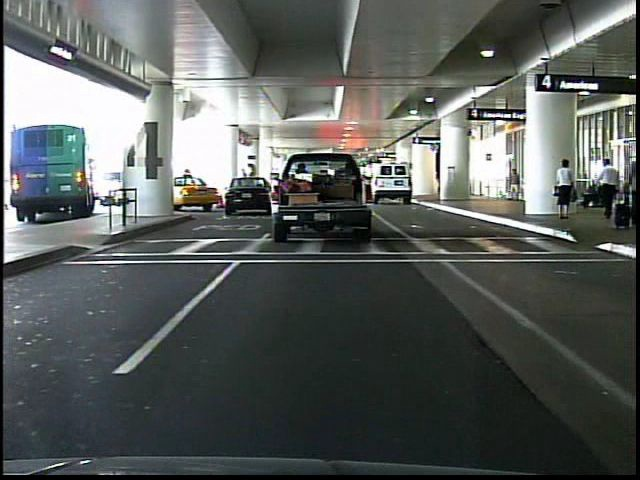person: (552, 154, 578, 225), (595, 154, 619, 221), (624, 145, 637, 230), (506, 162, 524, 206)
